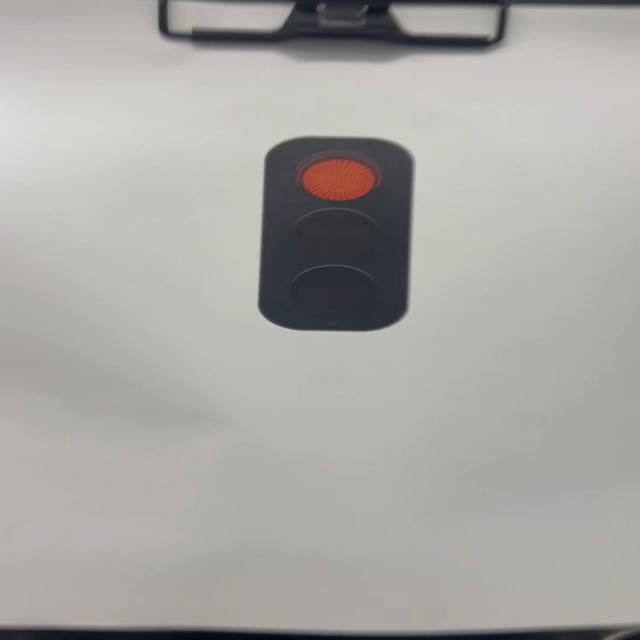red: (258, 135, 416, 330)
